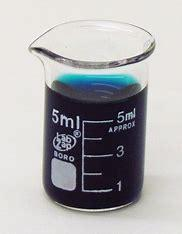Beaker: (19, 20, 150, 209)
